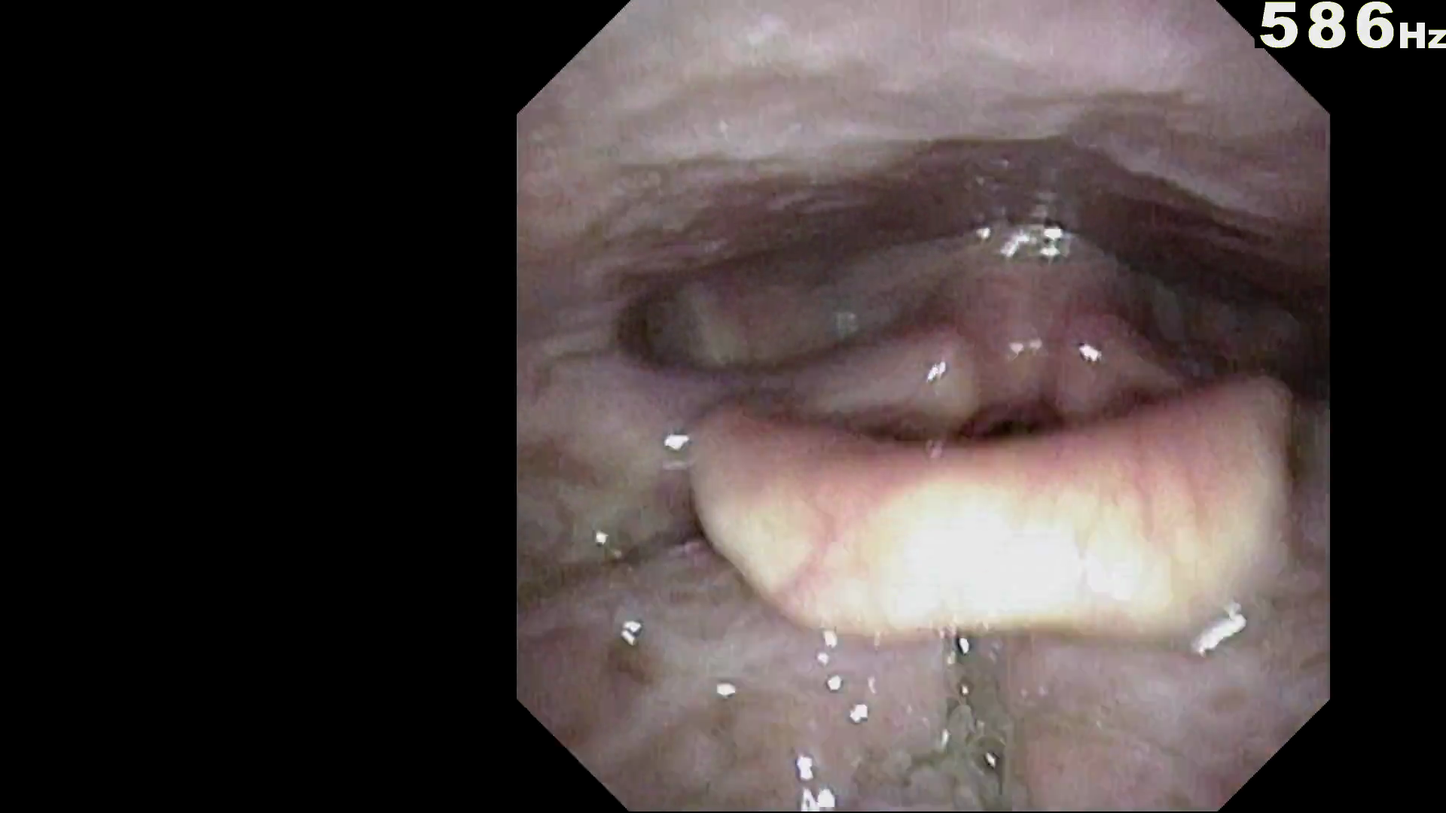epiglottis: (683, 296, 1271, 529)
